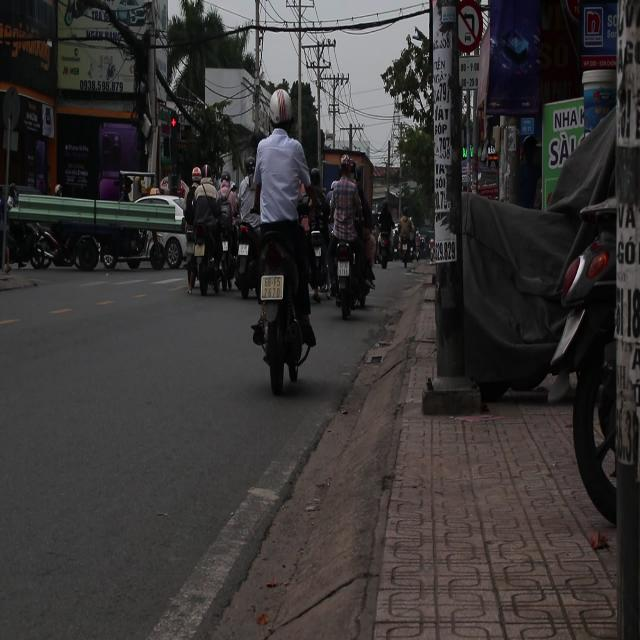motorbike: (248, 221, 315, 394), (330, 230, 376, 319), (234, 216, 261, 298), (402, 234, 421, 268), (377, 231, 391, 268)
